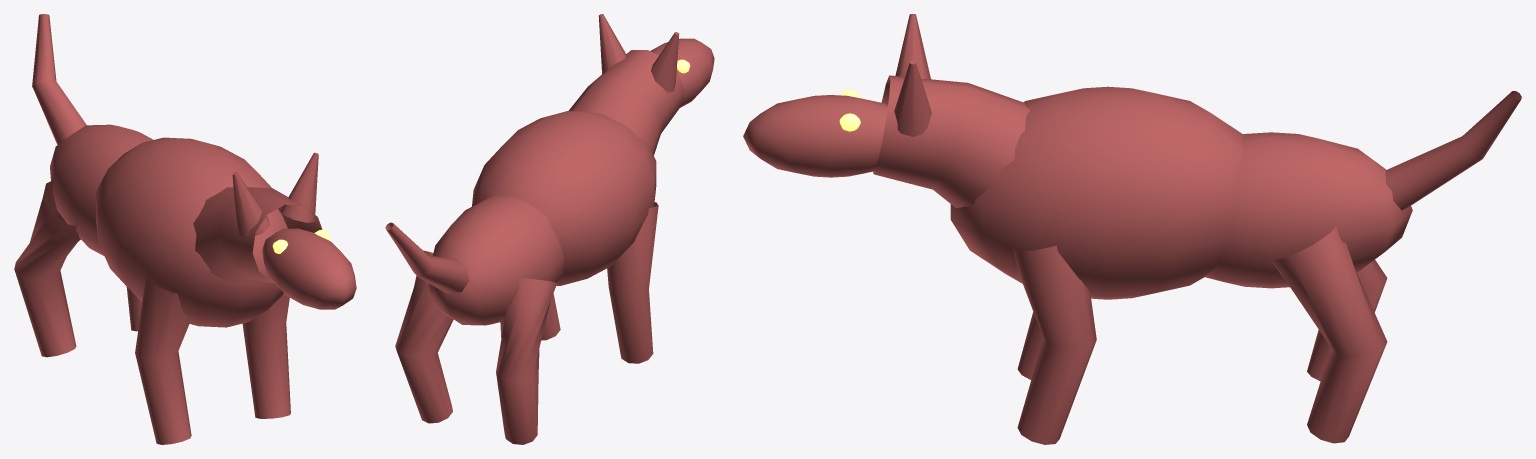
Rendered from mon_hound.glb.
The picture shows the model from 3 angles, left to right: view 1: azimuth 30°, elevation 25°; view 2: azimuth 150°, elevation 25°; view 3: azimuth 270°, elevation 25°; orthographic projection. The views are drawn at different scales.
Parts seen in each view (by area): view 1: hound_body; view 2: hound_body; view 3: hound_body.
Part boxes in pixels (x1,y1,x2,y2): hound_body: (14,14,356,444); hound_body: (385,14,714,444); hound_body: (743,14,1521,444).
Bounding box in the file's own units: 0.6697 × 1.31 × 2.48.
